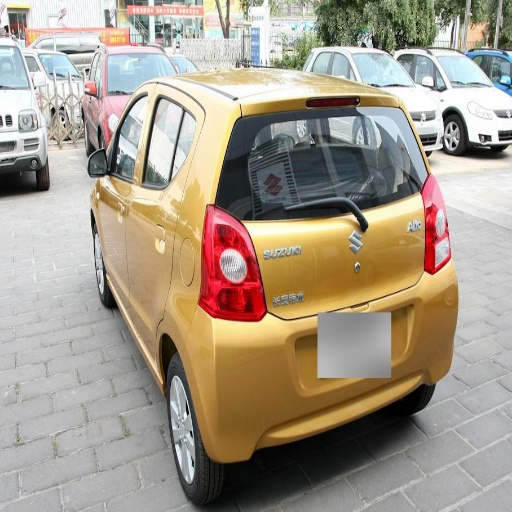back_bumper: (192, 265, 457, 458)
back_glass: (275, 150, 406, 202), (348, 53, 418, 76)
back_left_door: (133, 87, 199, 202)
back_left_light: (198, 213, 263, 319)
back_right_door: (105, 198, 126, 283)
trunk: (246, 200, 425, 320), (333, 108, 393, 155)
